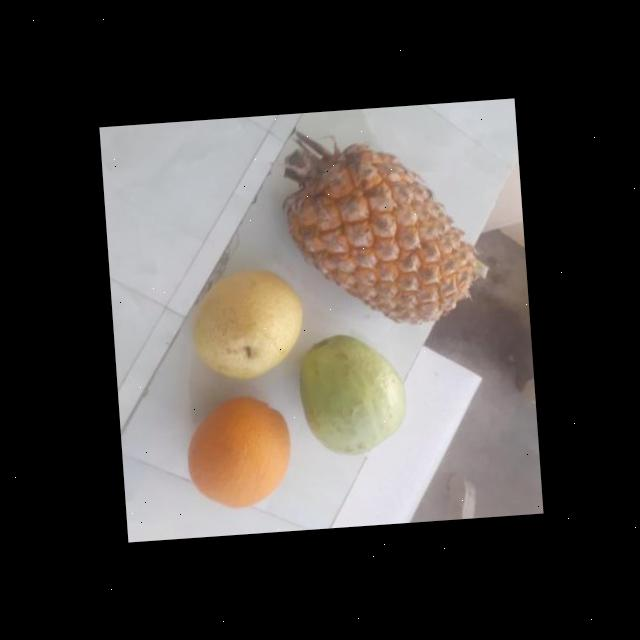guava: (292, 328, 414, 461)
orange: (184, 388, 296, 514)
pear: (186, 262, 304, 387)
pineapple: (278, 135, 478, 326)
